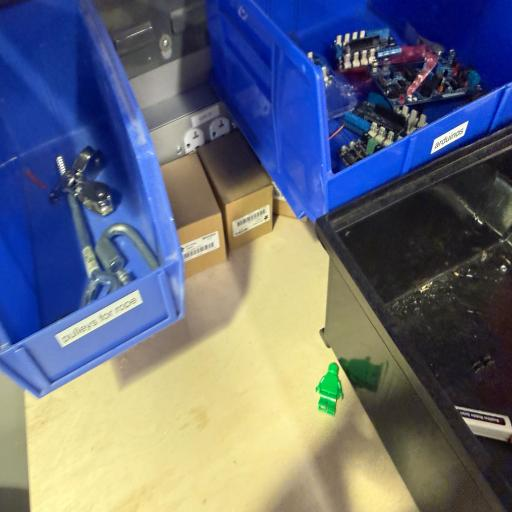Lego-Dude: (316, 362, 343, 416)
